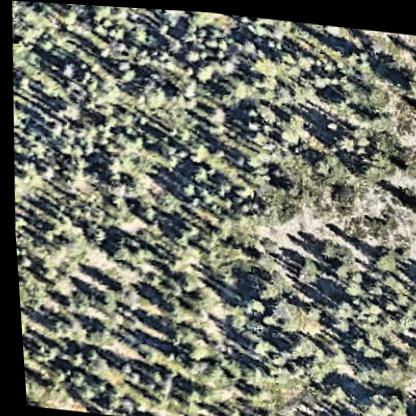tree-top: (272, 103, 306, 143), (351, 385, 393, 416), (303, 147, 341, 181), (360, 123, 396, 156), (246, 267, 278, 297), (283, 252, 314, 282), (76, 320, 107, 349), (311, 371, 340, 401), (363, 241, 392, 270), (159, 321, 188, 350), (136, 79, 166, 107), (283, 327, 311, 356), (99, 236, 128, 264), (38, 312, 68, 339), (85, 288, 113, 316), (333, 269, 360, 297), (393, 65, 416, 96), (131, 338, 158, 364), (155, 296, 181, 322), (249, 97, 274, 124), (125, 19, 149, 45), (327, 127, 351, 152), (233, 30, 257, 54), (236, 292, 260, 316), (243, 332, 267, 356), (200, 100, 223, 125), (390, 346, 413, 370), (205, 171, 228, 195), (80, 221, 102, 245), (306, 65, 329, 87), (23, 136, 44, 160), (189, 58, 211, 80), (310, 233, 332, 255), (74, 346, 95, 368), (53, 59, 74, 81), (133, 199, 154, 221), (58, 346, 79, 368), (179, 43, 201, 63), (276, 173, 298, 193), (174, 178, 192, 198), (33, 37, 53, 55), (407, 392, 416, 416), (328, 412, 357, 416)
